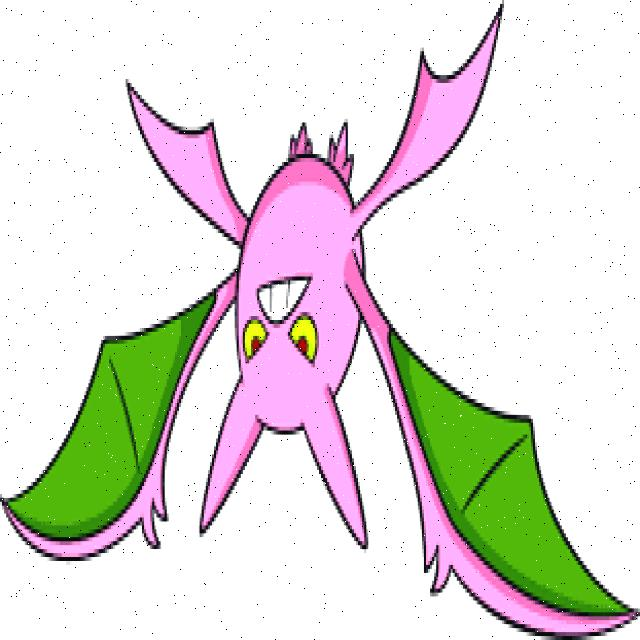crobat: (1, 4, 635, 637)
